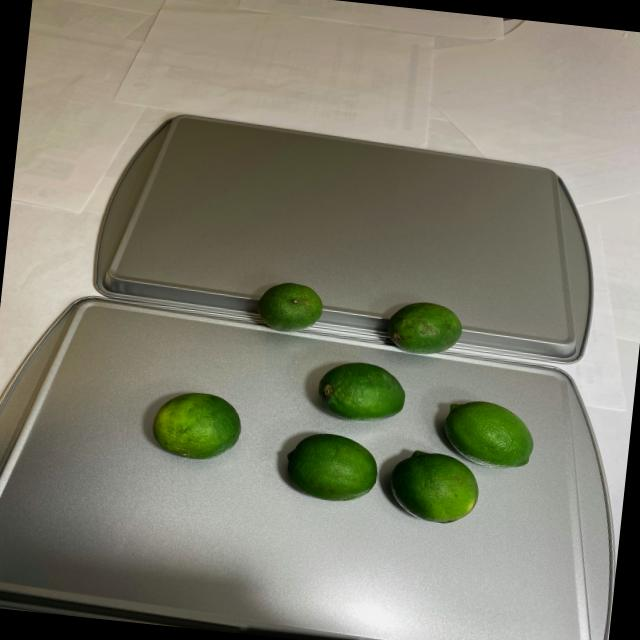lemon: (142, 266, 550, 534)
